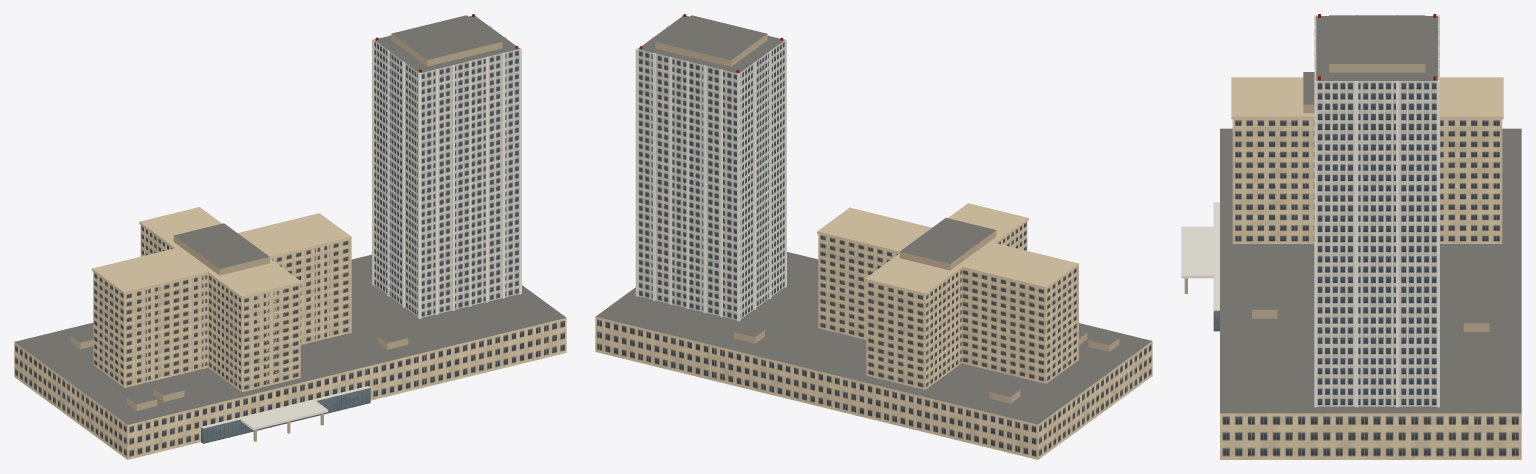
The model's file is imperial_hotel.glb.
3 views of the same model, side by side, from view 1: azimuth 30°, elevation 25°; view 2: azimuth 150°, elevation 25°; view 3: azimuth 270°, elevation 25° (orthographic). The views are drawn at different scales.
Parts seen in each view (by area): view 1: imperial_hotel; view 2: imperial_hotel; view 3: imperial_hotel.
Boxes of the visible parts, x1,y1,x2,y2 form: imperial_hotel: [14, 14, 566, 459]; imperial_hotel: [595, 14, 1152, 459]; imperial_hotel: [1181, 14, 1521, 459].
Bounding box in the file's own units: 210 × 131 × 106.
2 materials, 2 textured.
